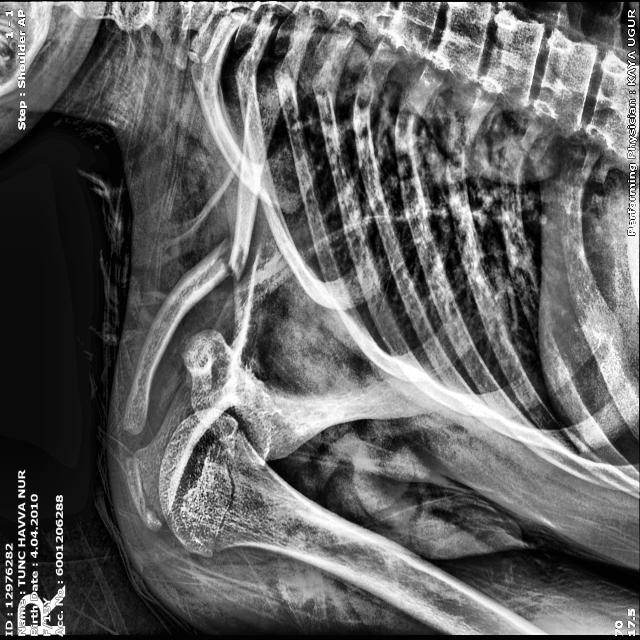Fracture: (204, 224, 254, 290)
